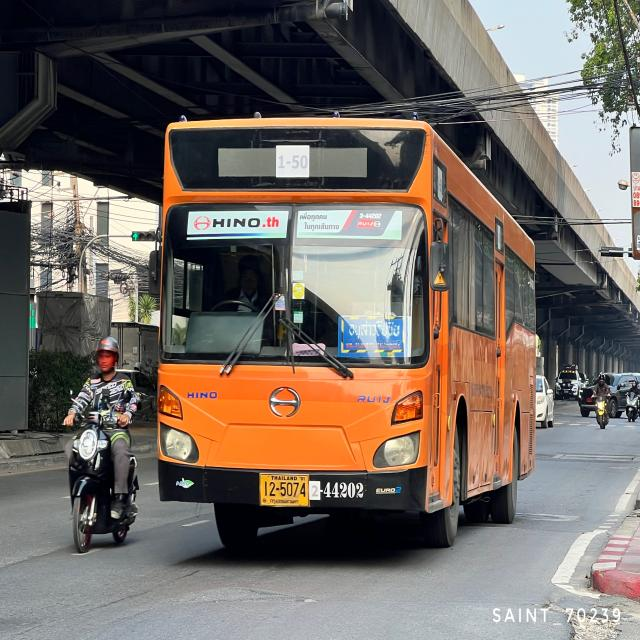BMTA-bus: (155, 115, 544, 554)
Bus-Line-Number: (267, 144, 315, 186)
Destination-Sign-Normal: (338, 315, 410, 358)
